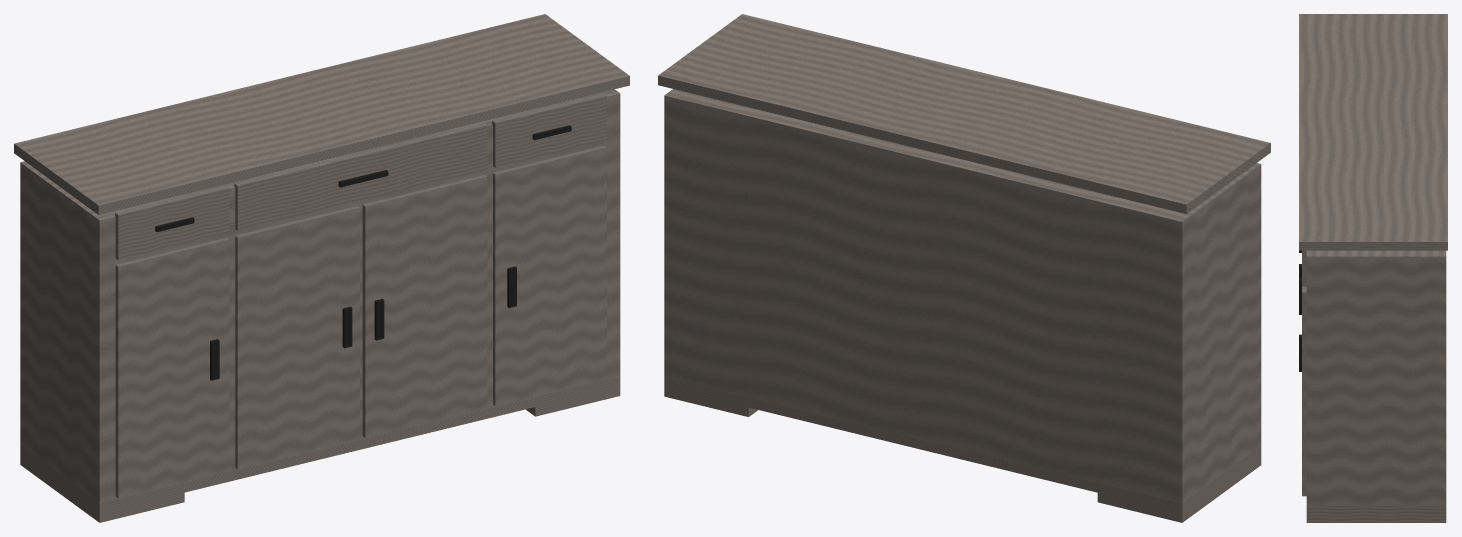
3 renders of one model, left to right at view 1: azimuth 30°, elevation 25°; view 2: azimuth 150°, elevation 25°; view 3: azimuth 270°, elevation 25°, orthographic. The views are drawn at different scales.
Visible parts, largest first — view 1: 1 top_panel, 2 cabinet_body, 14 door_center_right, 13 door_center_left, 12 door_left, 15 door_right, 7 drawer_center, 6 drawer_left, 8 drawer_right, 5 base_apron, 3 base_left, 4 base_right; view 2: 2 cabinet_body, 1 top_panel, 5 base_apron, 3 base_left, 4 base_right; view 3: 2 cabinet_body, 1 top_panel, 4 base_right, 15 door_right.
Boxes of the visible parts, <box> form: 1 top_panel: <box>14,14,629,214</box>; 2 cabinet_body: <box>20,89,620,503</box>; 14 door_center_right: <box>362,175,487,437</box>; 13 door_center_left: <box>235,206,359,468</box>; 12 door_left: <box>115,237,229,498</box>; 15 door_right: <box>493,145,606,406</box>; 7 drawer_center: <box>234,122,487,230</box>; 6 drawer_left: <box>115,185,229,260</box>; 8 drawer_right: <box>492,93,606,167</box>; 5 base_apron: <box>184,397,535,492</box>; 3 base_left: <box>20,446,184,522</box>; 4 base_right: <box>526,377,620,416</box>; 2 cabinet_body: <box>664,89,1261,503</box>; 1 top_panel: <box>658,14,1270,214</box>; 5 base_apron: <box>748,398,1097,492</box>; 3 base_left: <box>1097,446,1261,522</box>; 4 base_right: <box>664,377,757,416</box>; 2 cabinet_body: <box>1306,250,1446,505</box>; 1 top_panel: <box>1299,14,1447,250</box>; 4 base_right: <box>1306,506,1446,522</box>; 15 door_right: <box>1302,286,1306,496</box>.
Bounding box in the file's own units: 1.4 × 0.8103 × 0.3861.
Materials: 2 (1 with a texture image).
